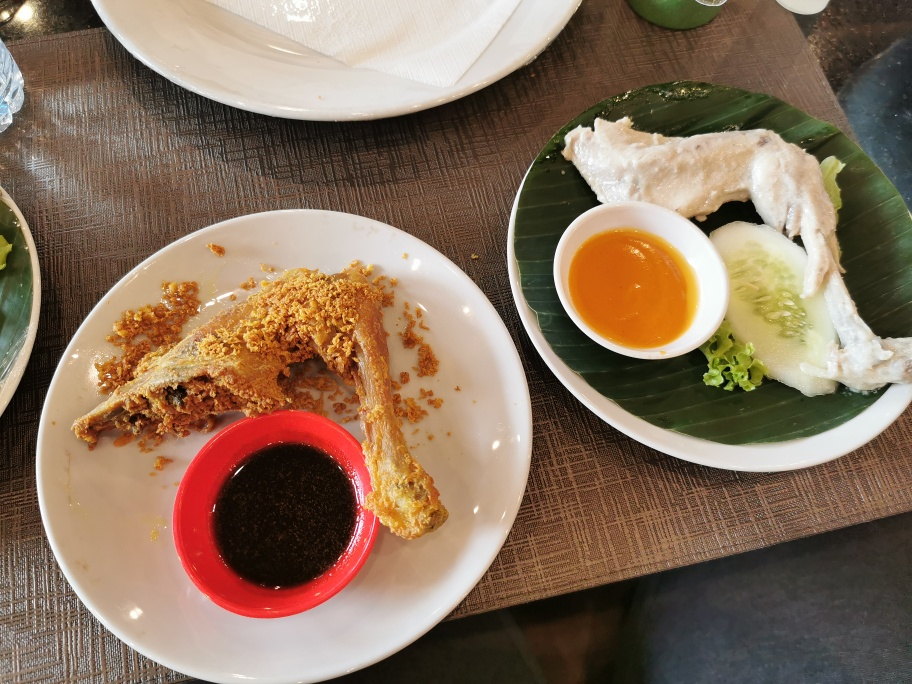ayam goreng: (67, 264, 449, 543)
ayam pop: (559, 115, 912, 383)
extra: (546, 203, 844, 393)
kecap: (177, 409, 380, 604)
